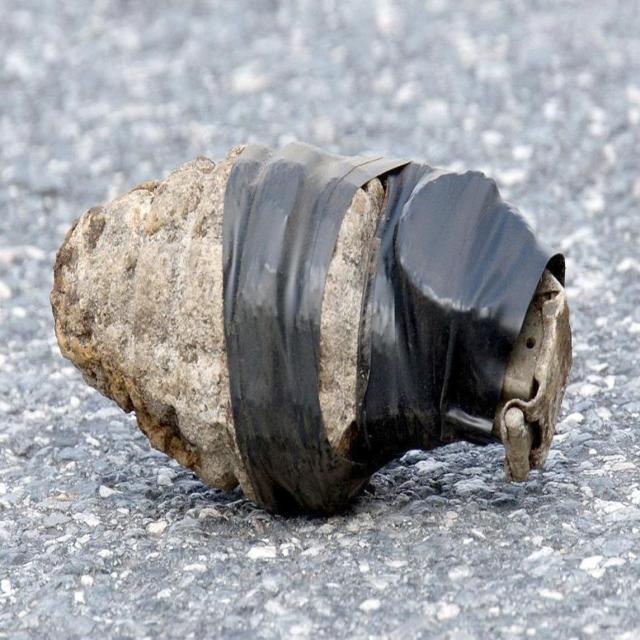grenade: (51, 138, 574, 524)
